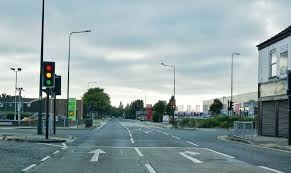strada: (104, 117, 236, 173)
